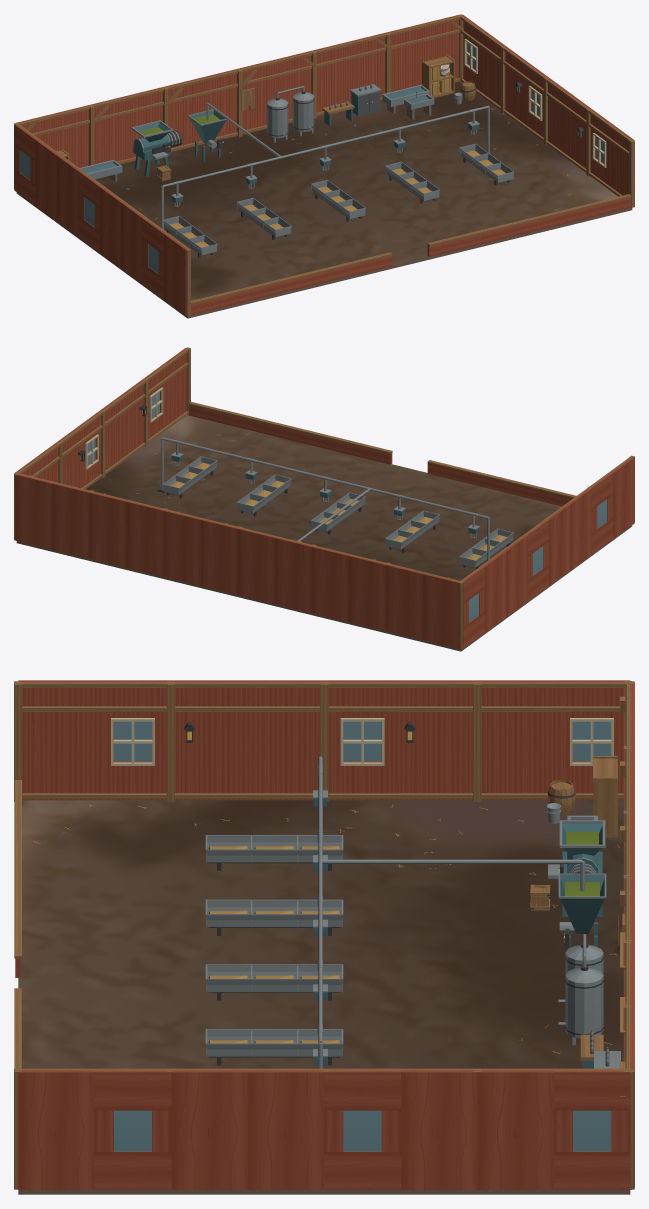
Rendered from BarnInterior_Lv4.fbx.
3 renders of one model, top to bottom at view 1: azimuth 30°, elevation 25°; view 2: azimuth 150°, elevation 25°; view 3: azimuth 270°, elevation 25°, orthographic. The views are drawn at different scales.
Parts seen in each view (by area): view 1: Lv4_Floor.001, Lv4_FrontCutaway.001, N01_Wall_2m.079, N01_Wall_2m.073, N01_Wall_2m.081, N01_Wall_2m.080, N01_Wall_2m.075, N01_Wall_2m.072, N01_Wall_2m.077, N01_Wall_2m.076, N03_LargeMotor.003, N01_Wall_2m.083 (+32 smaller); view 2: Lv4_Floor.001, Lv4_FrontCutaway.001, N01_Wall_2m.075, N01_Wall_2m.076, N01_Wall_2m.073, N01_Wall_2m.077, N01_Wall_2m.078, N01_Wall_2m.074, N01_Wall_2m.080, N01_Wall_2m.081, N01_Wall_2m.079, N01_Wall_2m.082 (+22 smaller); view 3: Lv4_Floor.001, N01_Wall_2m.090, N01_WindowWall_2m.022, N01_Wall_2m.088, N01_Wall_2m.092, N01_WindowWall_2m.023, N01_Wall_2m.089, N01_Wall_2m.091, N01_WindowWall_2m.024, N01_WindowWall_2m.019, N01_Wall_2m.083, N01_WindowWall_2m.020 (+21 smaller).
Part boxes in pixels (x1=…): Lv4_Floor.001: x1=16, y1=82, x2=632, y2=318; Lv4_FrontCutaway.001: x1=191, y1=194, x2=631, y2=314; N01_Wall_2m.079: x1=312, y1=41, x2=350, y2=116; N01_Wall_2m.073: x1=90, y1=96, x2=128, y2=164; N01_Wall_2m.081: x1=386, y1=23, x2=425, y2=91; N01_Wall_2m.080: x1=349, y1=32, x2=386, y2=103; N01_Wall_2m.075: x1=164, y1=78, x2=202, y2=151; N01_Wall_2m.072: x1=53, y1=105, x2=89, y2=167; N01_Wall_2m.077: x1=238, y1=59, x2=276, y2=134; N01_Wall_2m.076: x1=201, y1=69, x2=238, y2=144; N03_LargeMotor.003: x1=131, y1=120, x2=181, y2=176; N01_Wall_2m.083: x1=164, y1=233, x2=187, y2=315; Lv4_Floor.001: x1=16, y1=415, x2=632, y2=651; Lv4_FrontCutaway.001: x1=189, y1=402, x2=576, y2=506; N01_Wall_2m.075: x1=274, y1=536, x2=312, y2=612; N01_Wall_2m.076: x1=237, y1=527, x2=276, y2=603; N01_Wall_2m.073: x1=348, y1=554, x2=386, y2=630; N01_Wall_2m.077: x1=200, y1=518, x2=238, y2=594; N01_Wall_2m.078: x1=163, y1=509, x2=202, y2=585; N01_Wall_2m.074: x1=311, y1=546, x2=350, y2=621; N01_Wall_2m.080: x1=89, y1=491, x2=128, y2=567; N01_Wall_2m.081: x1=52, y1=482, x2=90, y2=558; N01_Wall_2m.079: x1=126, y1=500, x2=163, y2=576; N01_Wall_2m.082: x1=15, y1=473, x2=53, y2=549; Lv4_Floor.001: x1=18, y1=800, x2=630, y2=1194; N01_Wall_2m.090: x1=247, y1=1068, x2=324, y2=1190; N01_WindowWall_2m.022: x1=94, y1=1068, x2=171, y2=1190; N01_Wall_2m.088: x1=18, y1=1068, x2=94, y2=1190; N01_Wall_2m.092: x1=477, y1=1068, x2=553, y2=1190; N01_WindowWall_2m.023: x1=324, y1=1068, x2=400, y2=1190; N01_Wall_2m.089: x1=171, y1=1068, x2=247, y2=1190; N01_Wall_2m.091: x1=401, y1=1068, x2=477, y2=1190; N01_WindowWall_2m.024: x1=554, y1=1068, x2=630, y2=1190; N01_WindowWall_2m.019: x1=94, y1=680, x2=171, y2=800; N01_Wall_2m.083: x1=18, y1=680, x2=94, y2=800; N01_WindowWall_2m.020: x1=324, y1=680, x2=400, y2=800.
Size of the model in its own units: 24.26 by 3.58 by 16.23.
